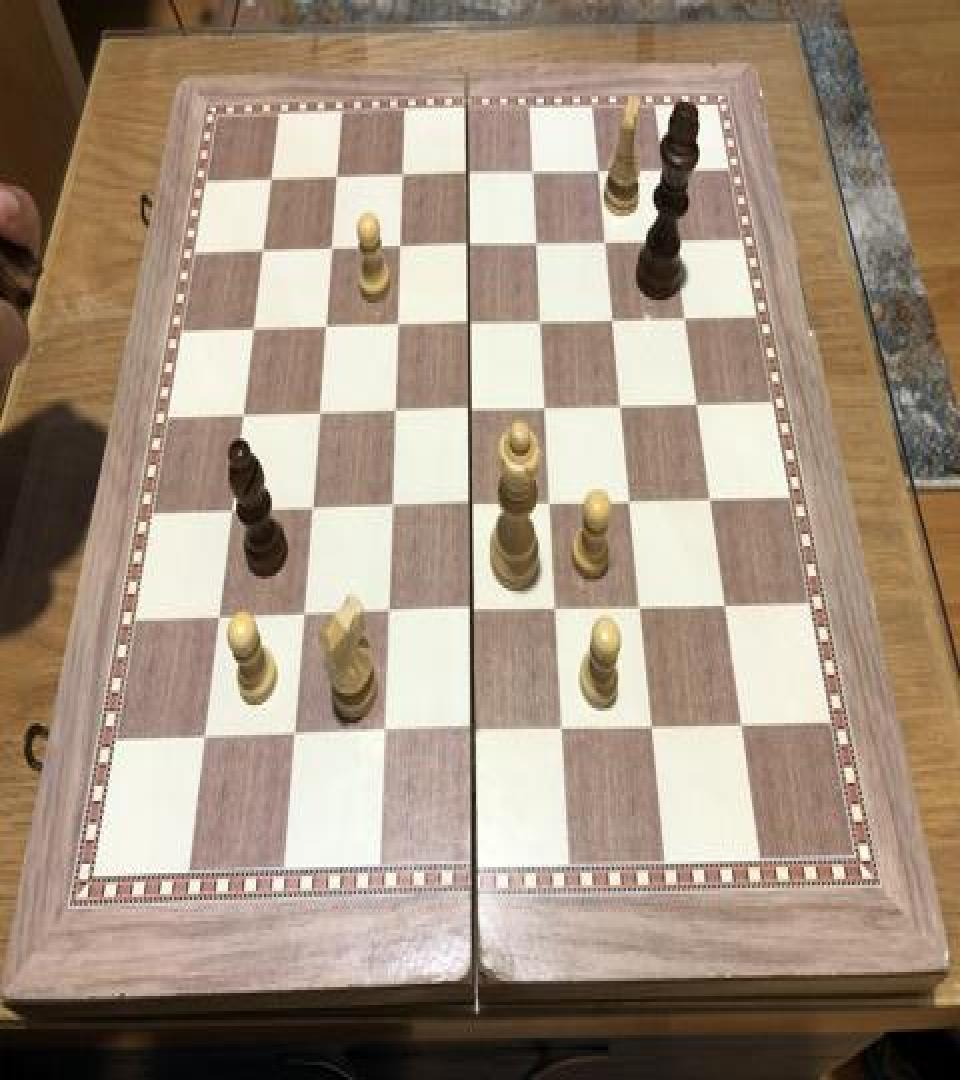xcorner: (631, 586, 655, 623), (293, 595, 317, 632), (373, 712, 397, 749), (655, 152, 679, 188), (590, 153, 614, 189), (524, 156, 548, 192), (458, 158, 482, 194), (392, 159, 416, 195), (327, 162, 351, 198), (261, 164, 285, 200), (665, 222, 689, 258), (596, 224, 620, 260), (527, 226, 551, 262), (459, 228, 483, 264), (390, 230, 414, 266), (321, 232, 345, 268), (253, 234, 277, 270), (676, 300, 700, 336), (604, 302, 628, 338), (531, 303, 555, 339), (459, 306, 483, 342), (387, 308, 411, 344), (315, 310, 339, 346), (243, 312, 267, 348), (688, 384, 712, 420), (612, 387, 636, 423), (536, 388, 560, 424), (460, 392, 484, 428), (384, 393, 408, 429), (308, 396, 332, 432), (233, 398, 257, 434), (701, 478, 725, 514), (621, 482, 645, 518), (541, 483, 565, 519), (461, 486, 485, 522), (381, 488, 405, 524), (301, 490, 325, 526), (221, 492, 245, 528), (715, 585, 739, 621), (546, 590, 570, 626), (462, 591, 486, 627), (377, 594, 401, 630), (209, 598, 233, 634), (732, 702, 756, 738), (642, 705, 666, 741), (552, 706, 576, 742), (462, 710, 486, 746), (283, 714, 307, 750), (194, 717, 218, 753)
